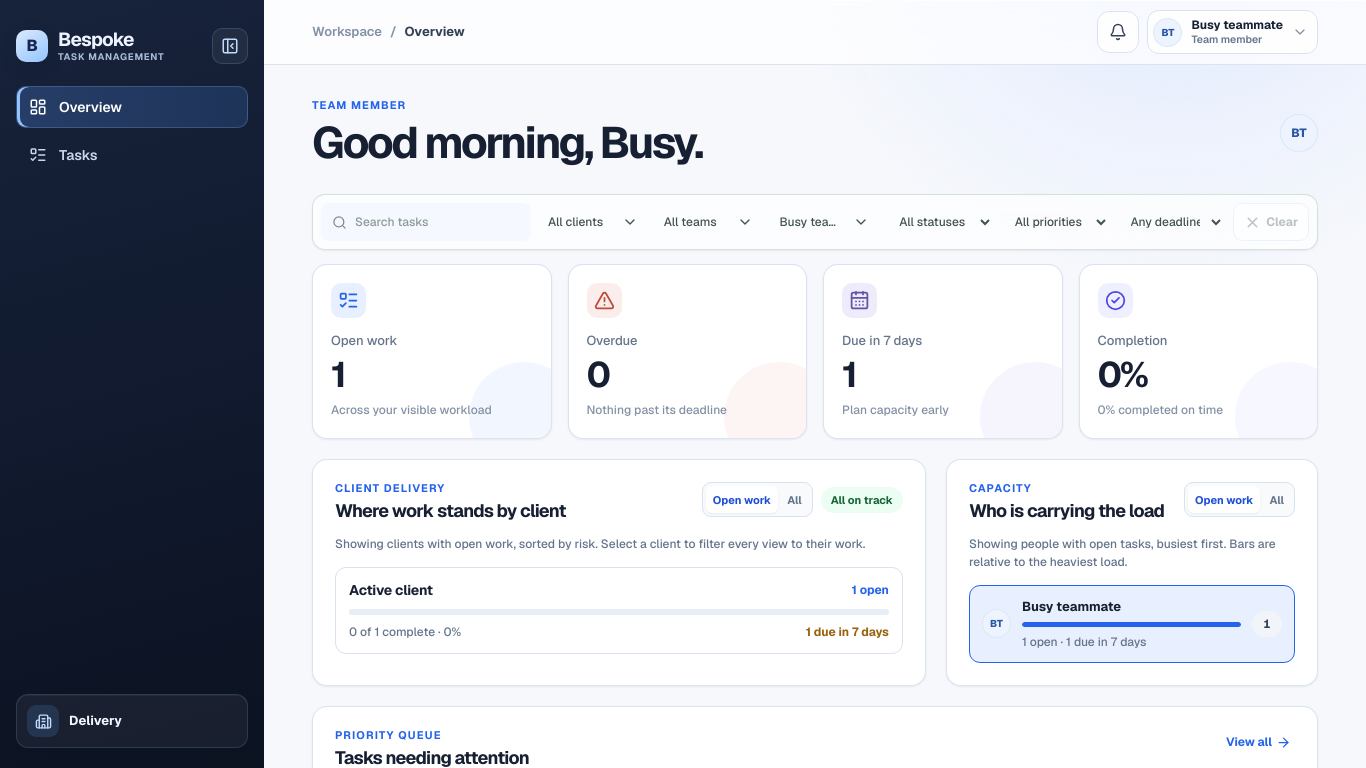
overview workload visibility › defaults members to their own tasks and clears back to that default
This screenshot has width=1366, height=768.
Check: the button with aria-label "Clear all filters" is disabled, box left=1233, top=203, right=1309, bottom=241
Click the button with aria-label "Filter by assignee": (824, 222) left=770, top=203, right=878, bottom=241
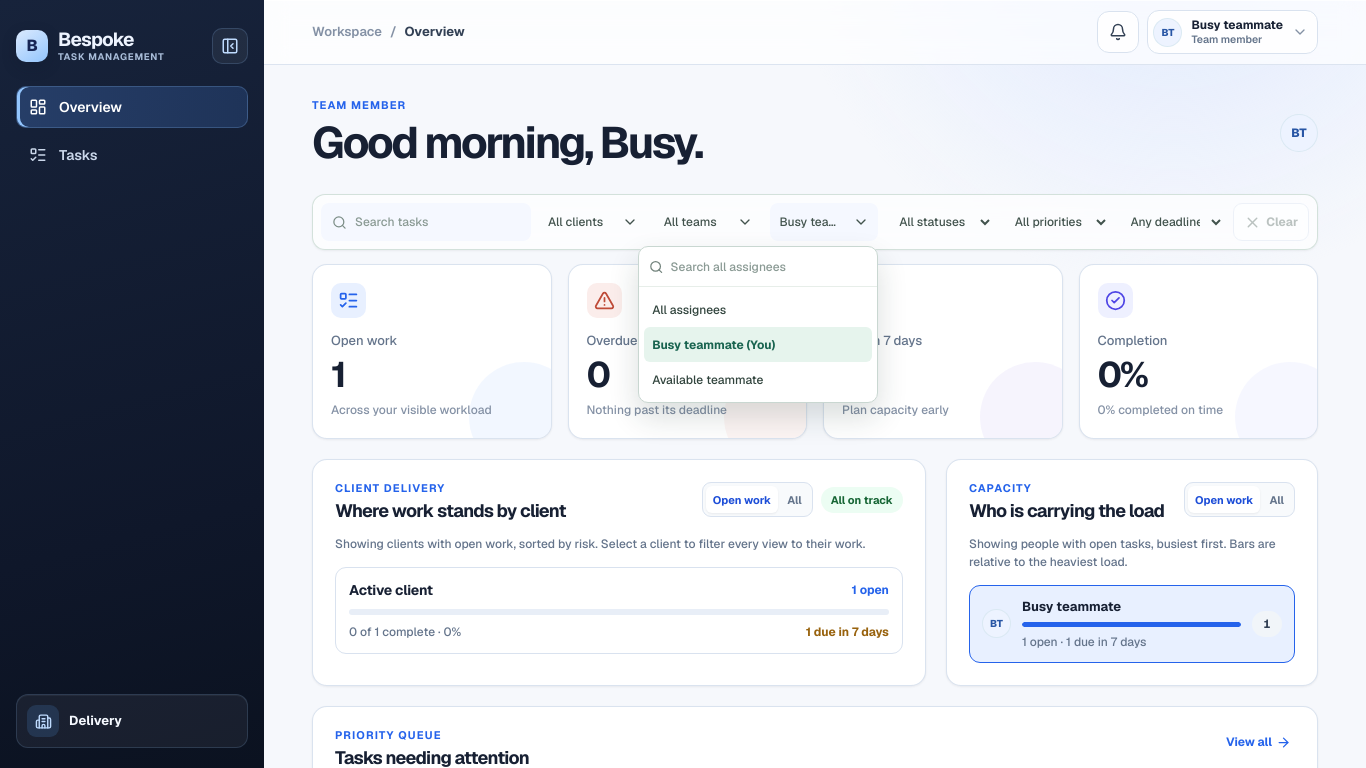
Click the option "Available teammate": (758, 380) left=644, top=362, right=872, bottom=397
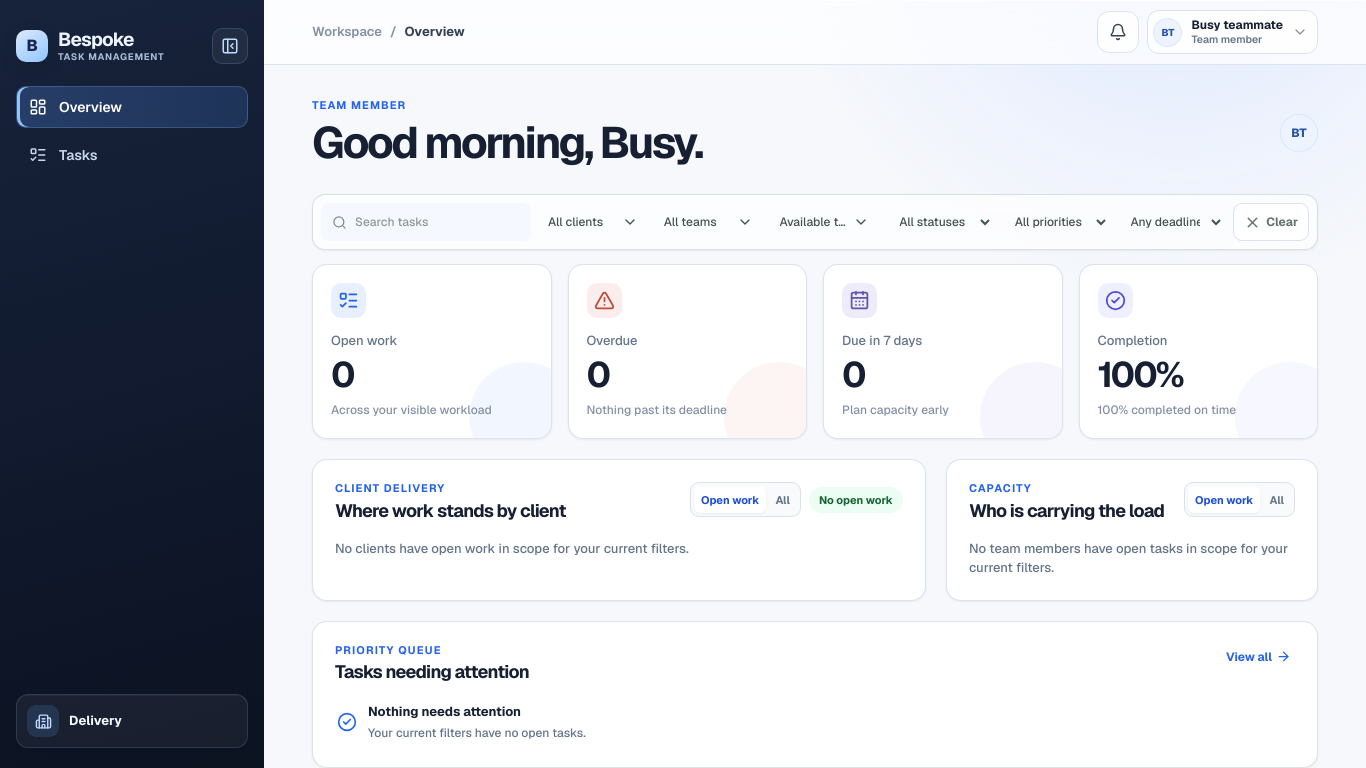
Click the button with aria-label "Clear all filters": (1271, 222) left=1233, top=203, right=1309, bottom=241
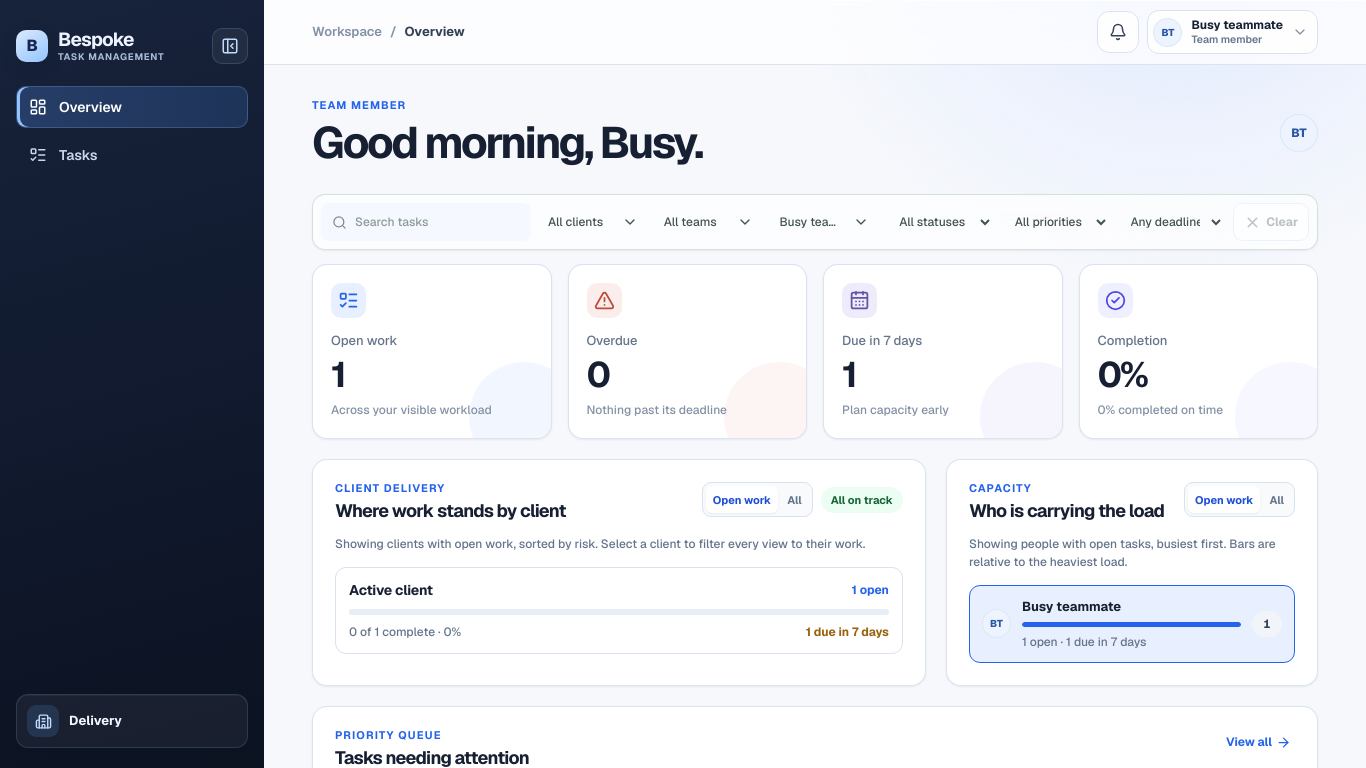
Check: the button with aria-label "Filter by assignee" reads "Busy teammate (You)", box left=770, top=203, right=878, bottom=241
